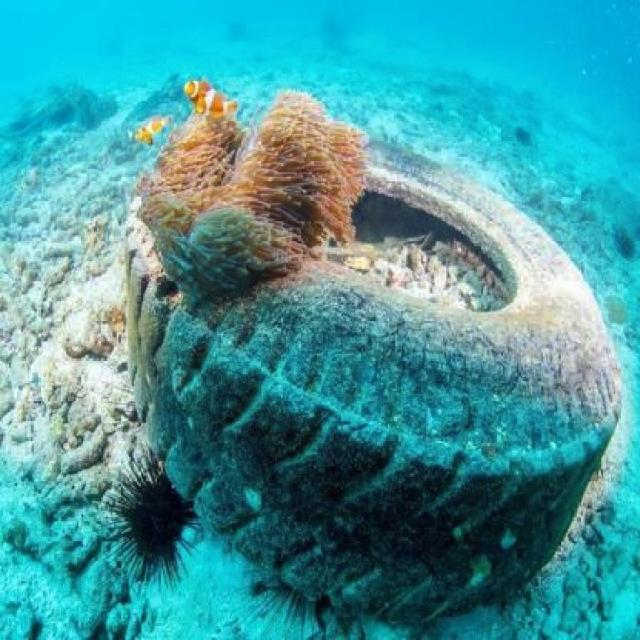tire: (158, 183, 614, 580)
